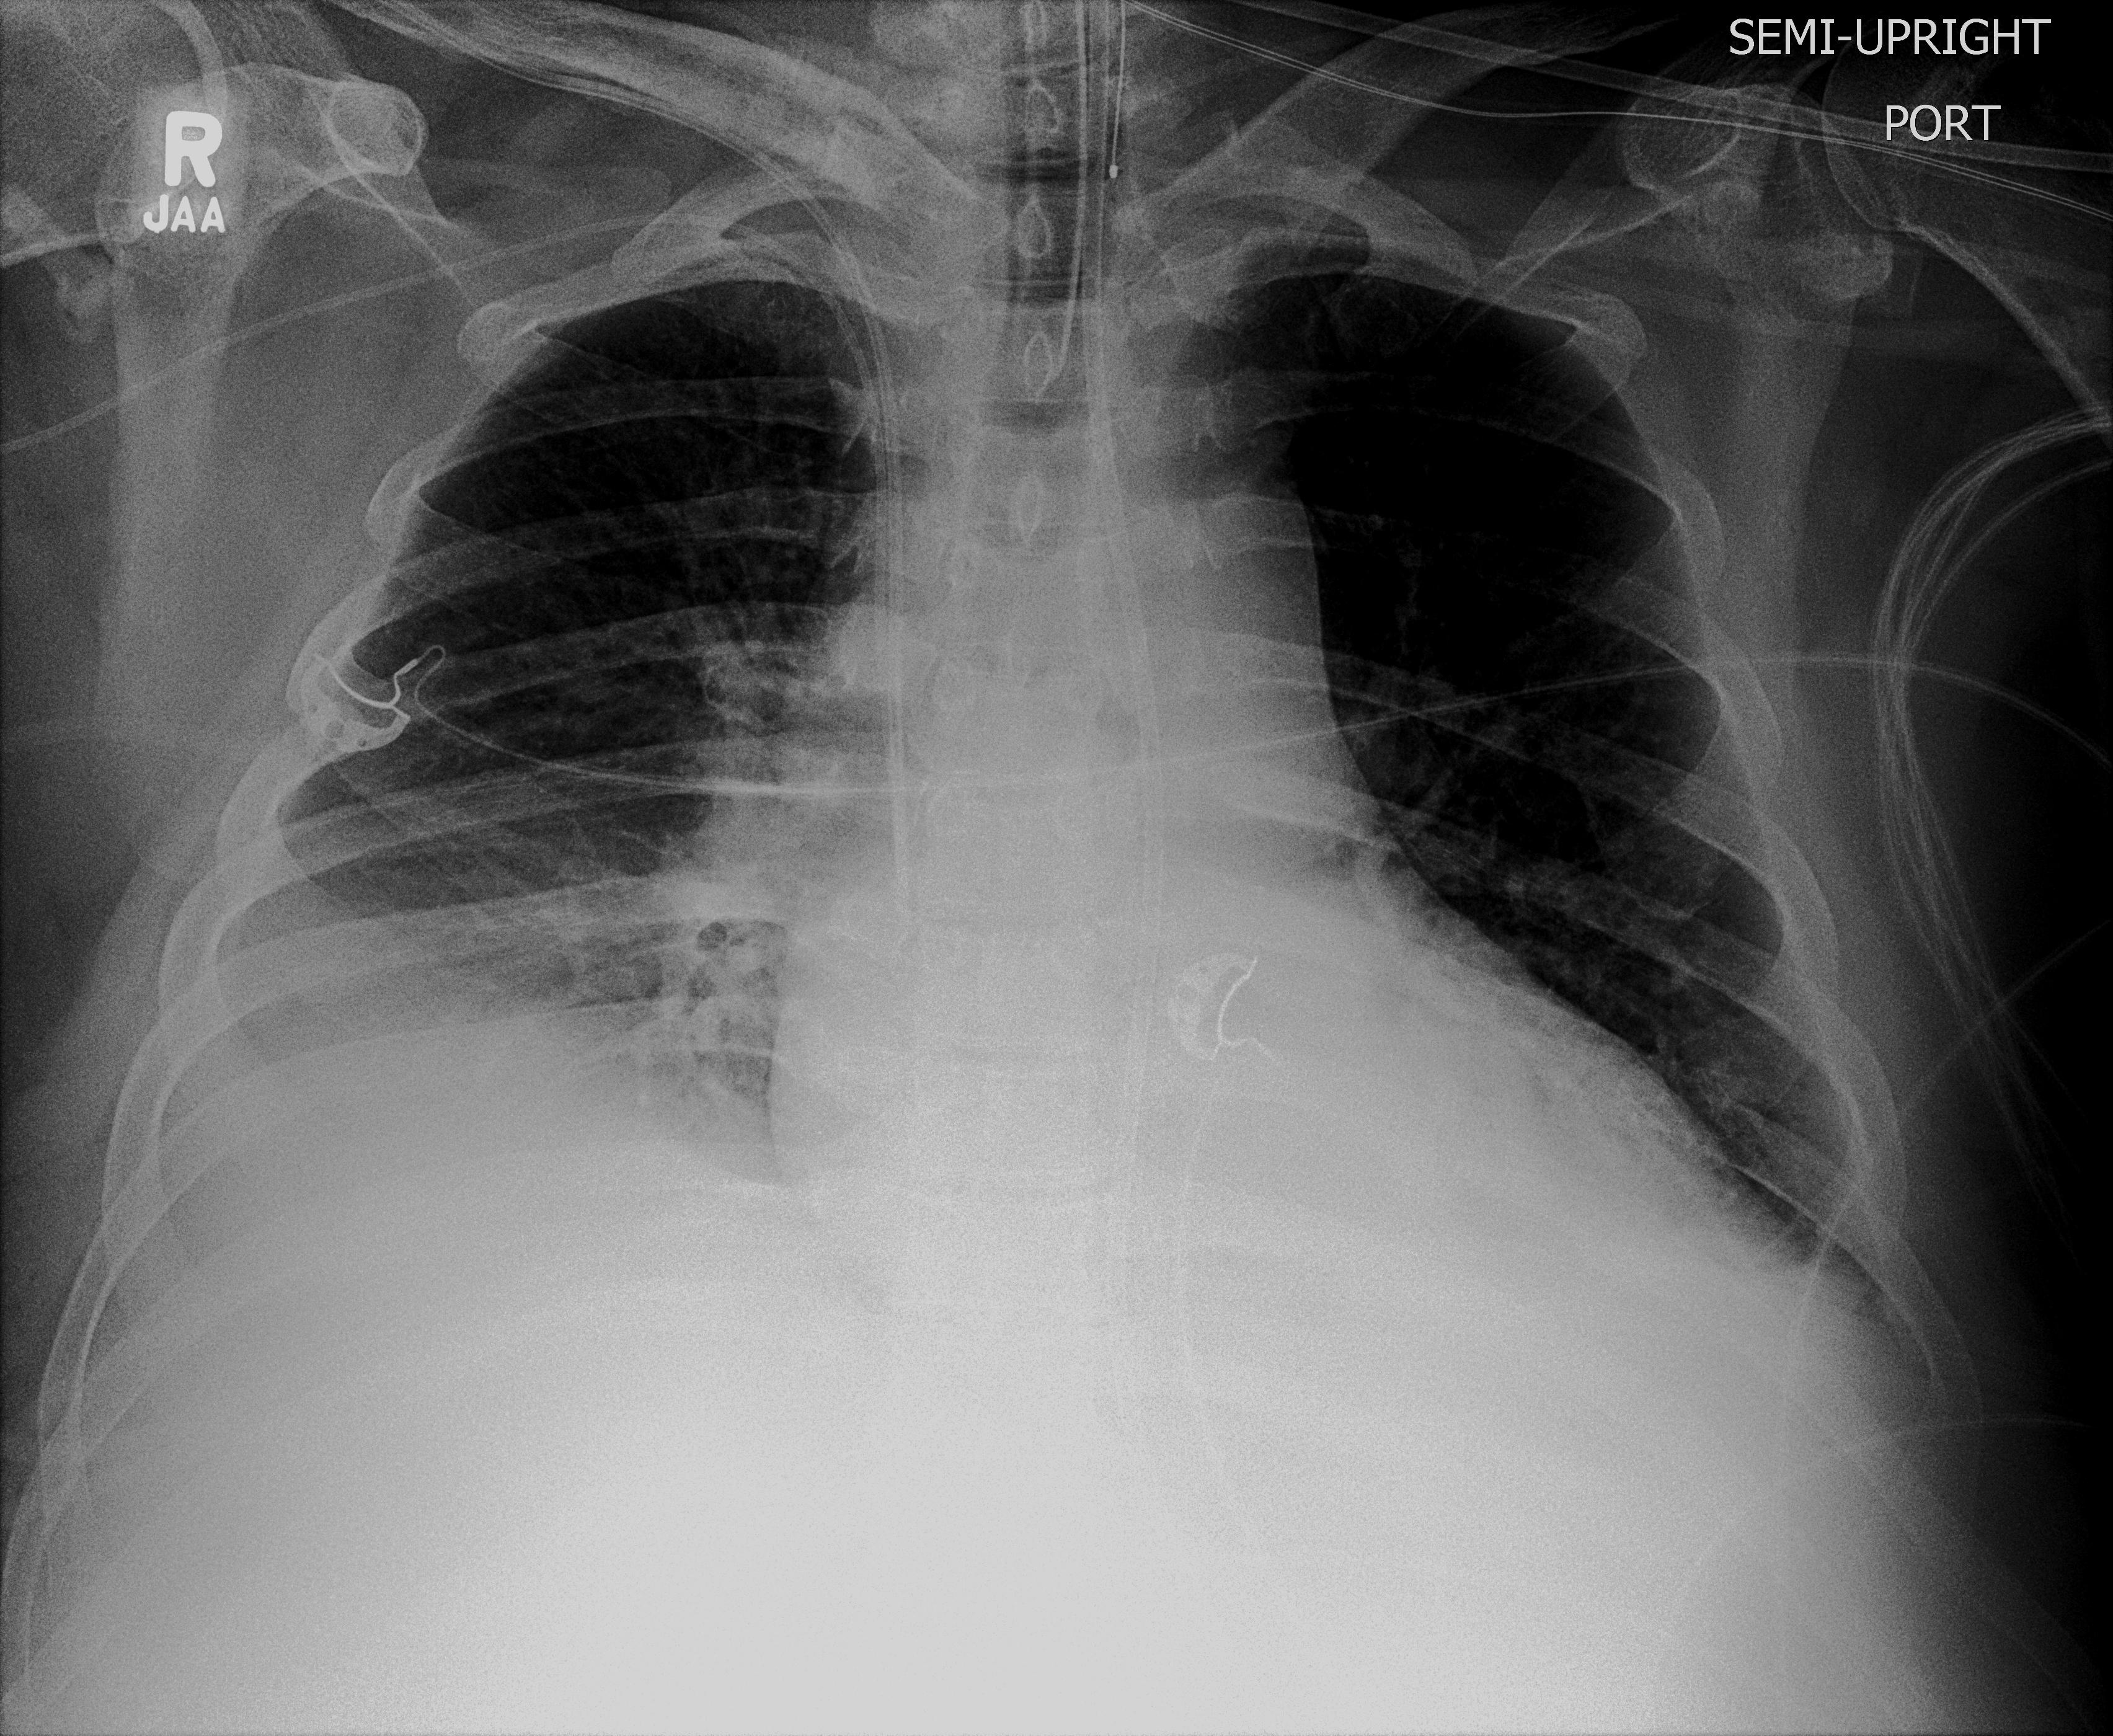Pleural Effusion: (107, 792, 609, 1297)
